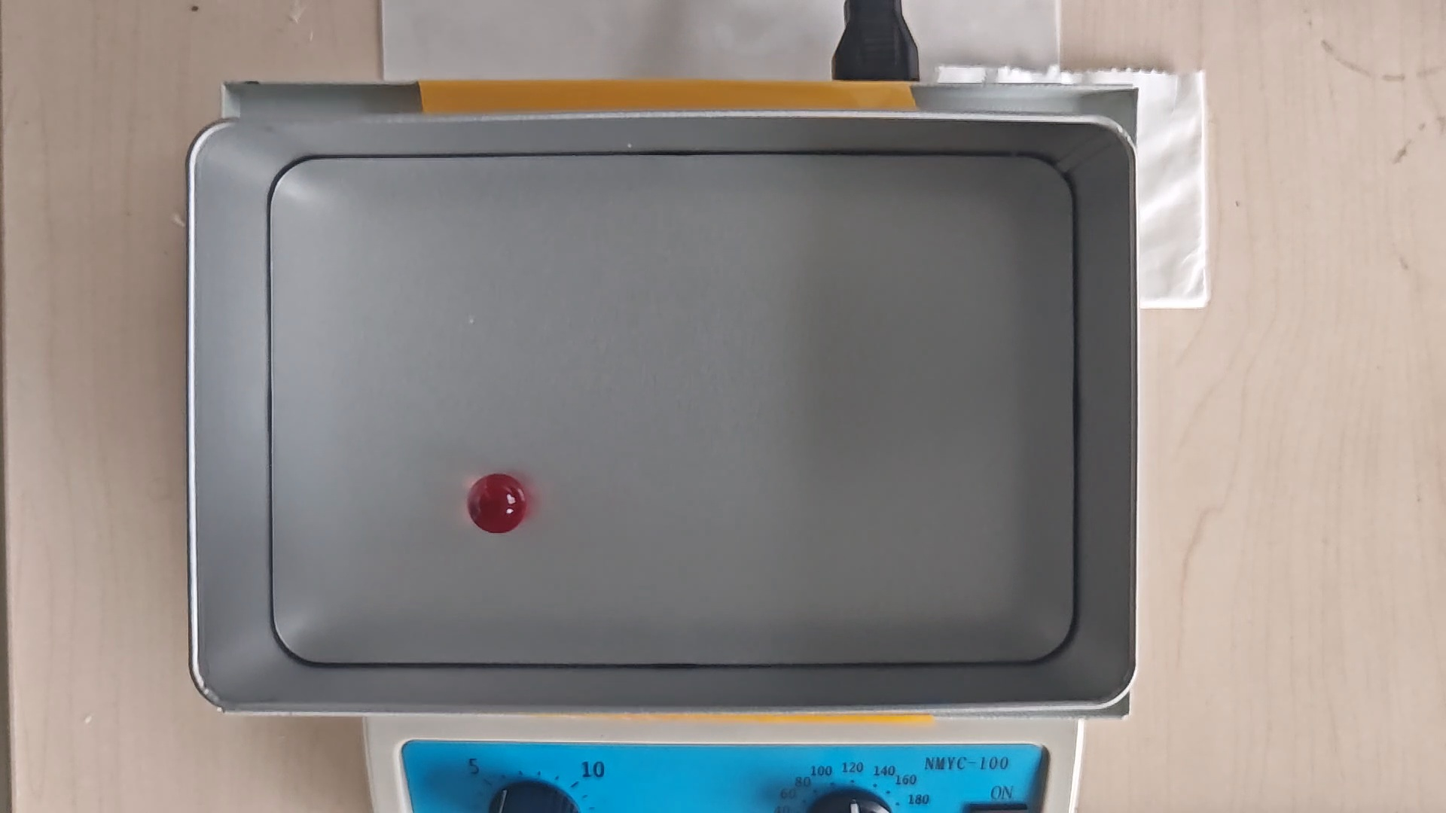ball: (468, 473, 526, 534)
container: (267, 154, 1075, 668)
